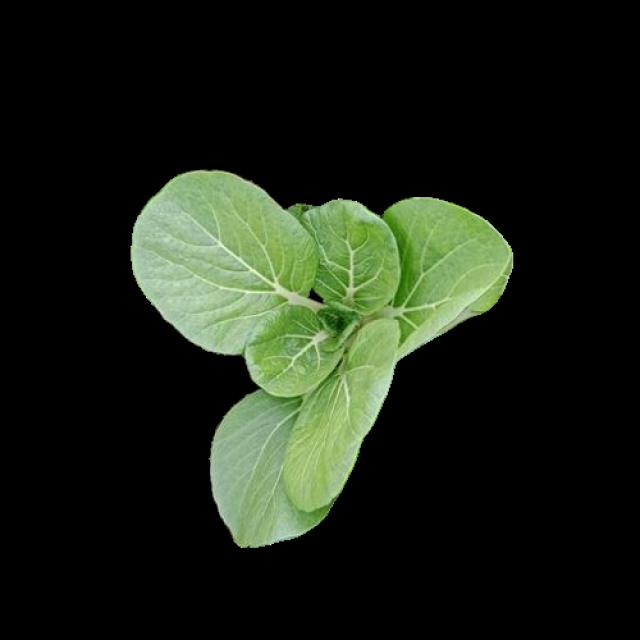healthy: (134, 184, 512, 557)
not-mature: (132, 172, 509, 546)
